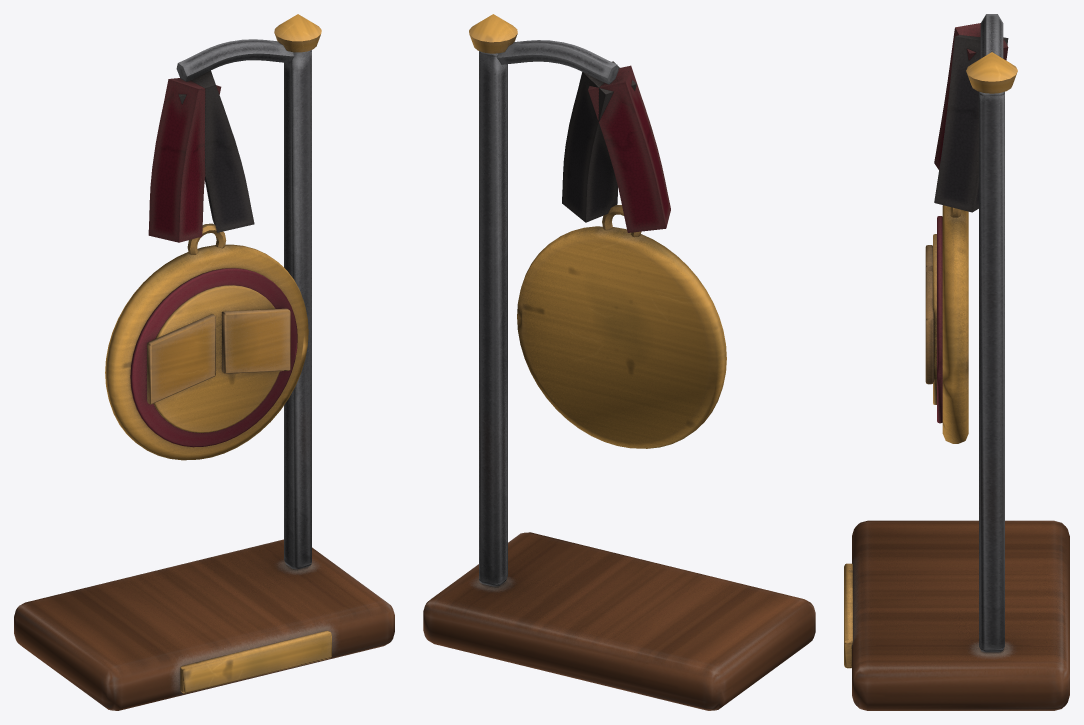
The model's file is PathMedalAcademic.fbx.
3 renders of one model, left to right at view 1: azimuth 30°, elevation 25°; view 2: azimuth 150°, elevation 25°; view 3: azimuth 270°, elevation 25°, orthographic. The views are drawn at different scales.
Visible parts, largest first — view 1: PathMedalAcademic; view 2: PathMedalAcademic; view 3: PathMedalAcademic.
Boxes of the visible parts, <box> form: PathMedalAcademic: <box>14,14,394,710</box>; PathMedalAcademic: <box>423,14,815,710</box>; PathMedalAcademic: <box>844,14,1069,710</box>.
Bounding box in the file's own units: 70 × 137 × 43.5.
